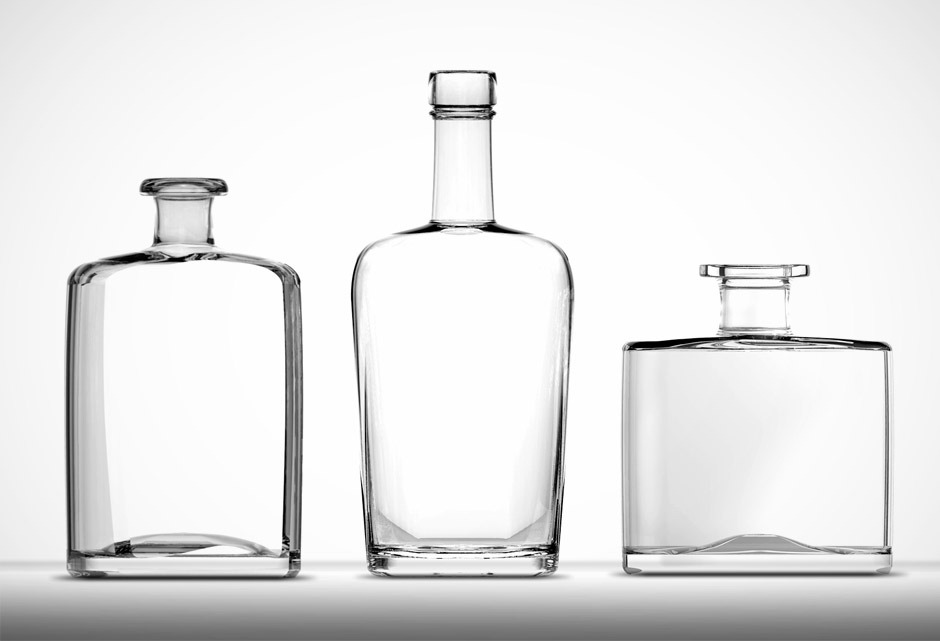container: (339, 70, 581, 589), (55, 170, 306, 579), (616, 255, 907, 594)
